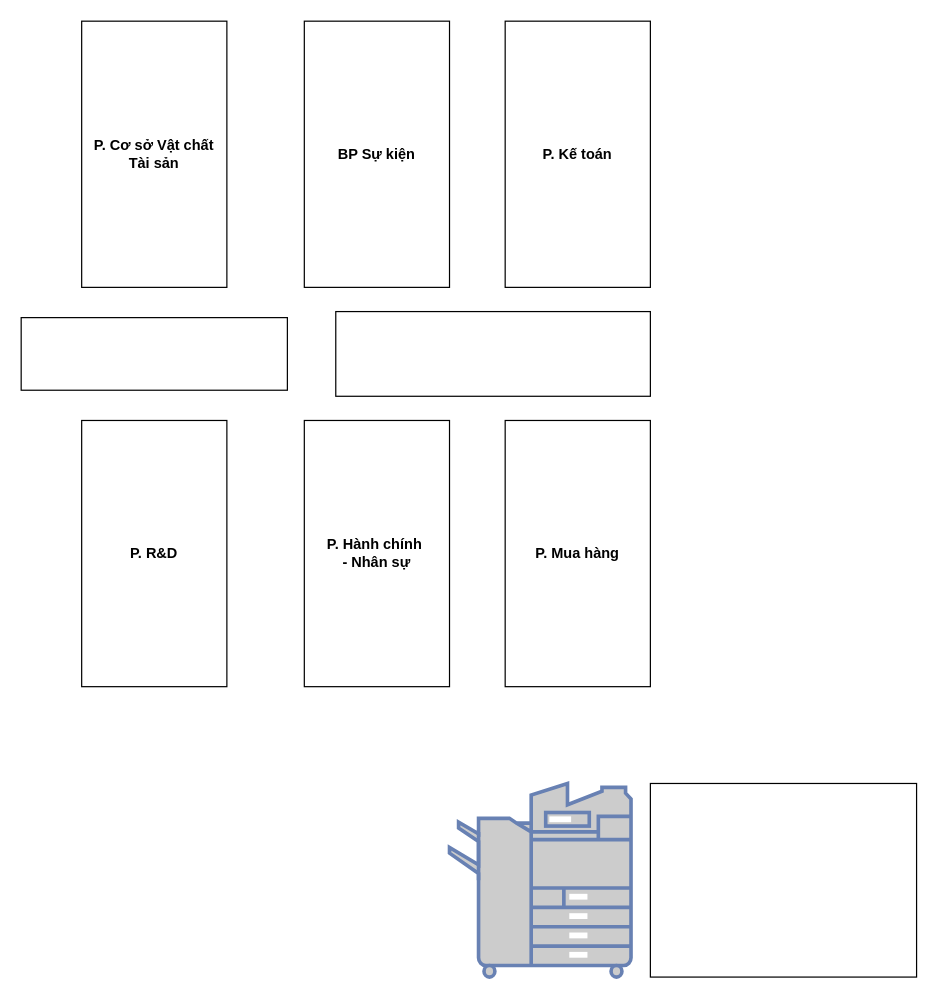
Image size: 938x999. Some labels were removed from this diagram. Here are the shapes that lost their labels. From the top down, the box of each, then its label:
(20, 316, 287, 390): Mỗi Phòng/ban sử dụng 1 mã code để in/ấn
(335, 310, 650, 396): BP Thể chất
(649, 782, 917, 977): - Quản lý theo Code - Báo cáo số lượng bản in theo phòng ban hàng tháng
